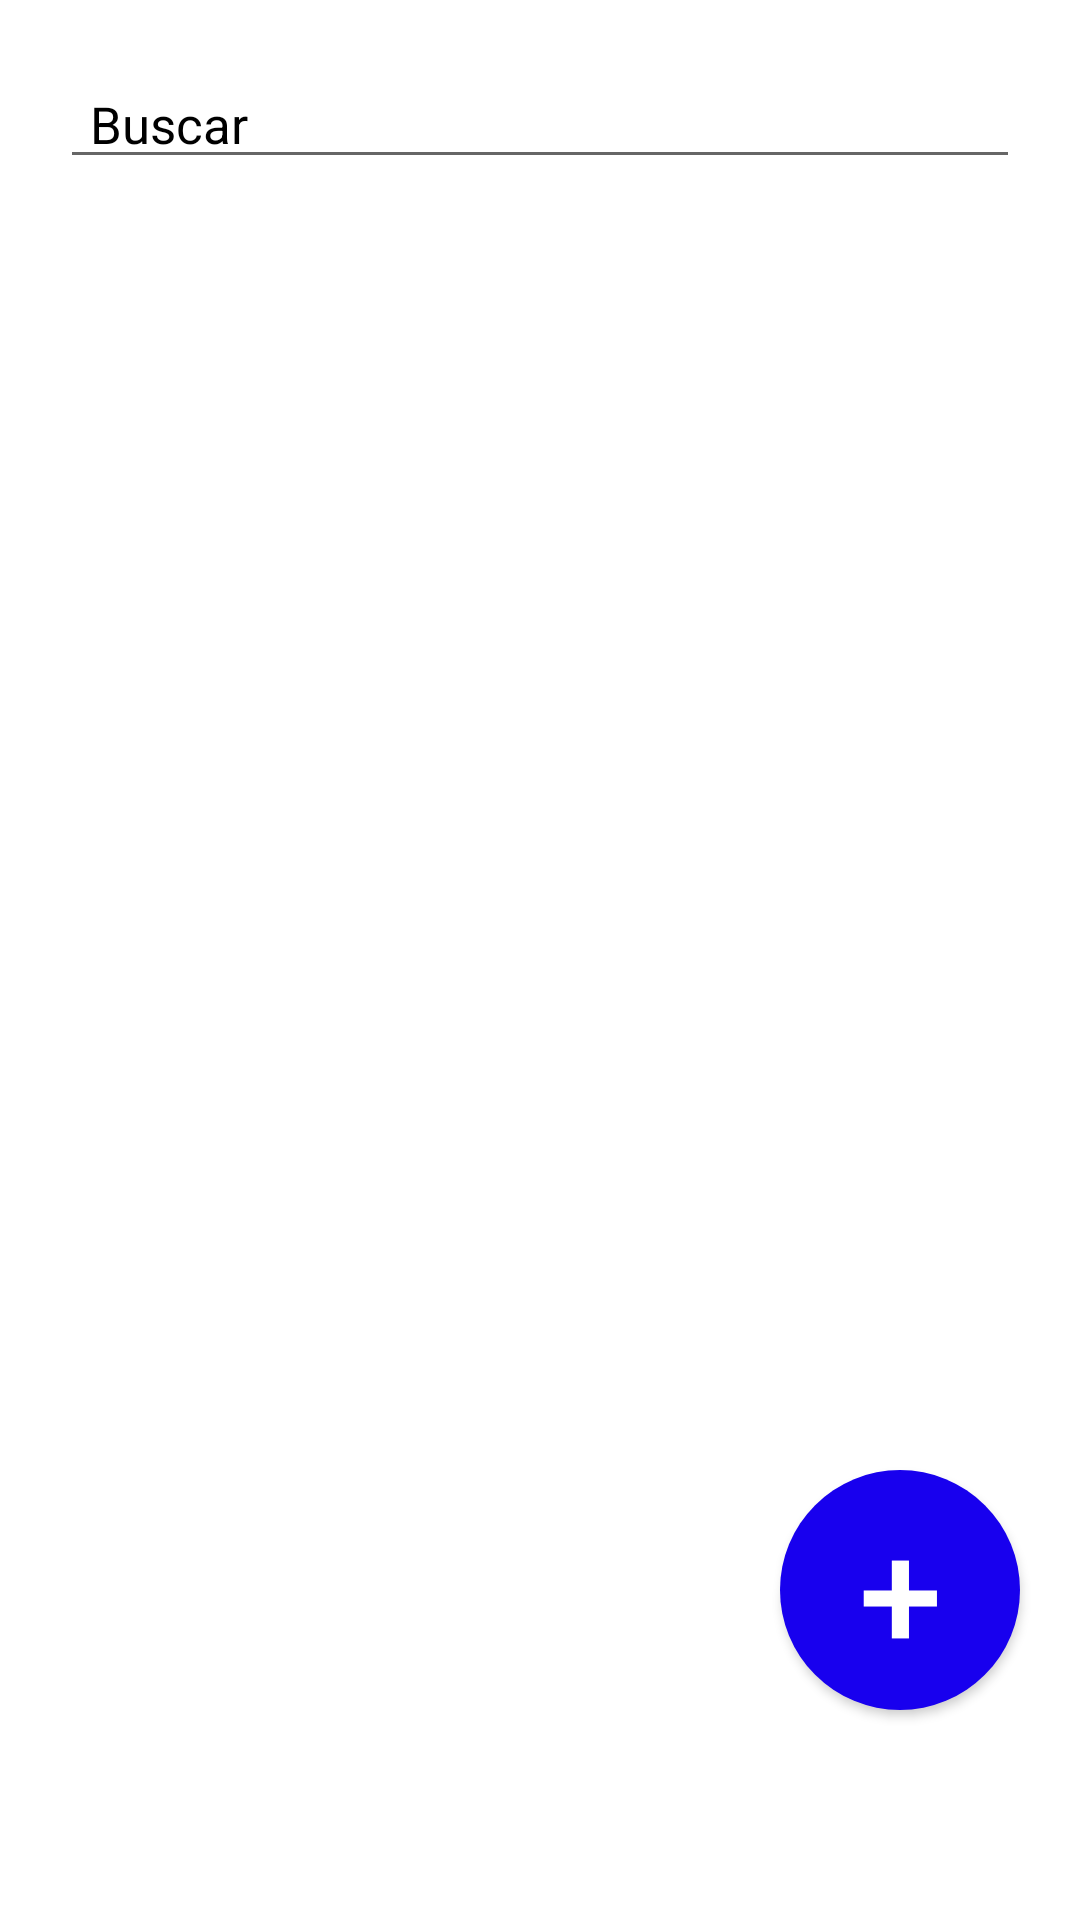

Icon bounding boxes for this 1080 x 1920 phone screenshot, format (x1, y1, x2, y2):
circulo: (780, 1470, 1020, 1710)
